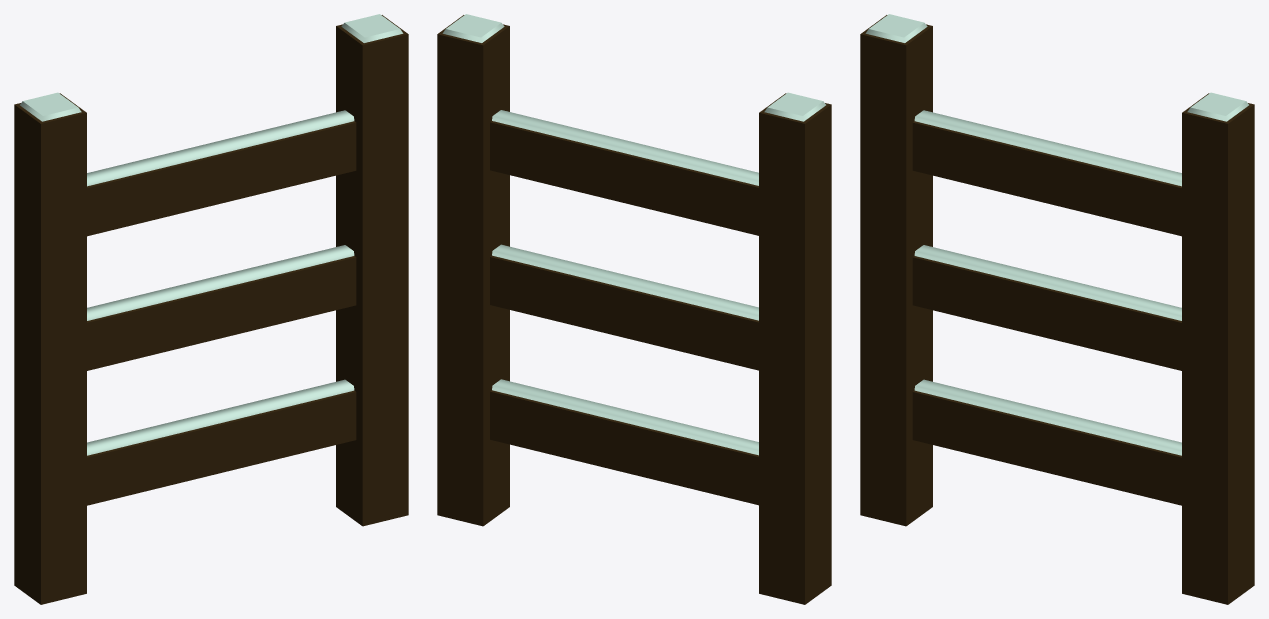
Rendered from winter-ladder.glb.
The picture shows the model from 3 angles, left to right: view 1: azimuth 30°, elevation 25°; view 2: azimuth 150°, elevation 25°; view 3: azimuth 330°, elevation 25°; orthographic projection.
Parts seen in each view (by area): view 1: WinterLadder; view 2: WinterLadder; view 3: WinterLadder.
Part boxes in pixels (x1,y1,x2,y2): WinterLadder: (14,14,408,604); WinterLadder: (437,14,831,604); WinterLadder: (860,14,1254,604).
Size of the model in its own units: 160 by 202 by 20.
1 material, 1 textured.
